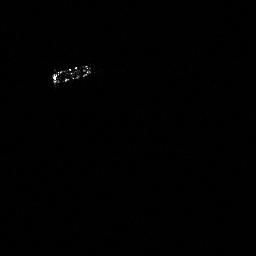ship: (52, 64, 90, 83)
